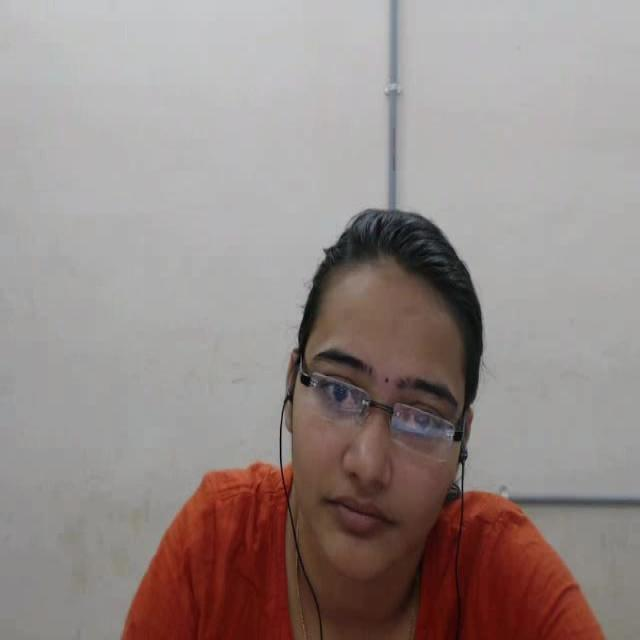Engaged: (239, 177, 536, 622)
